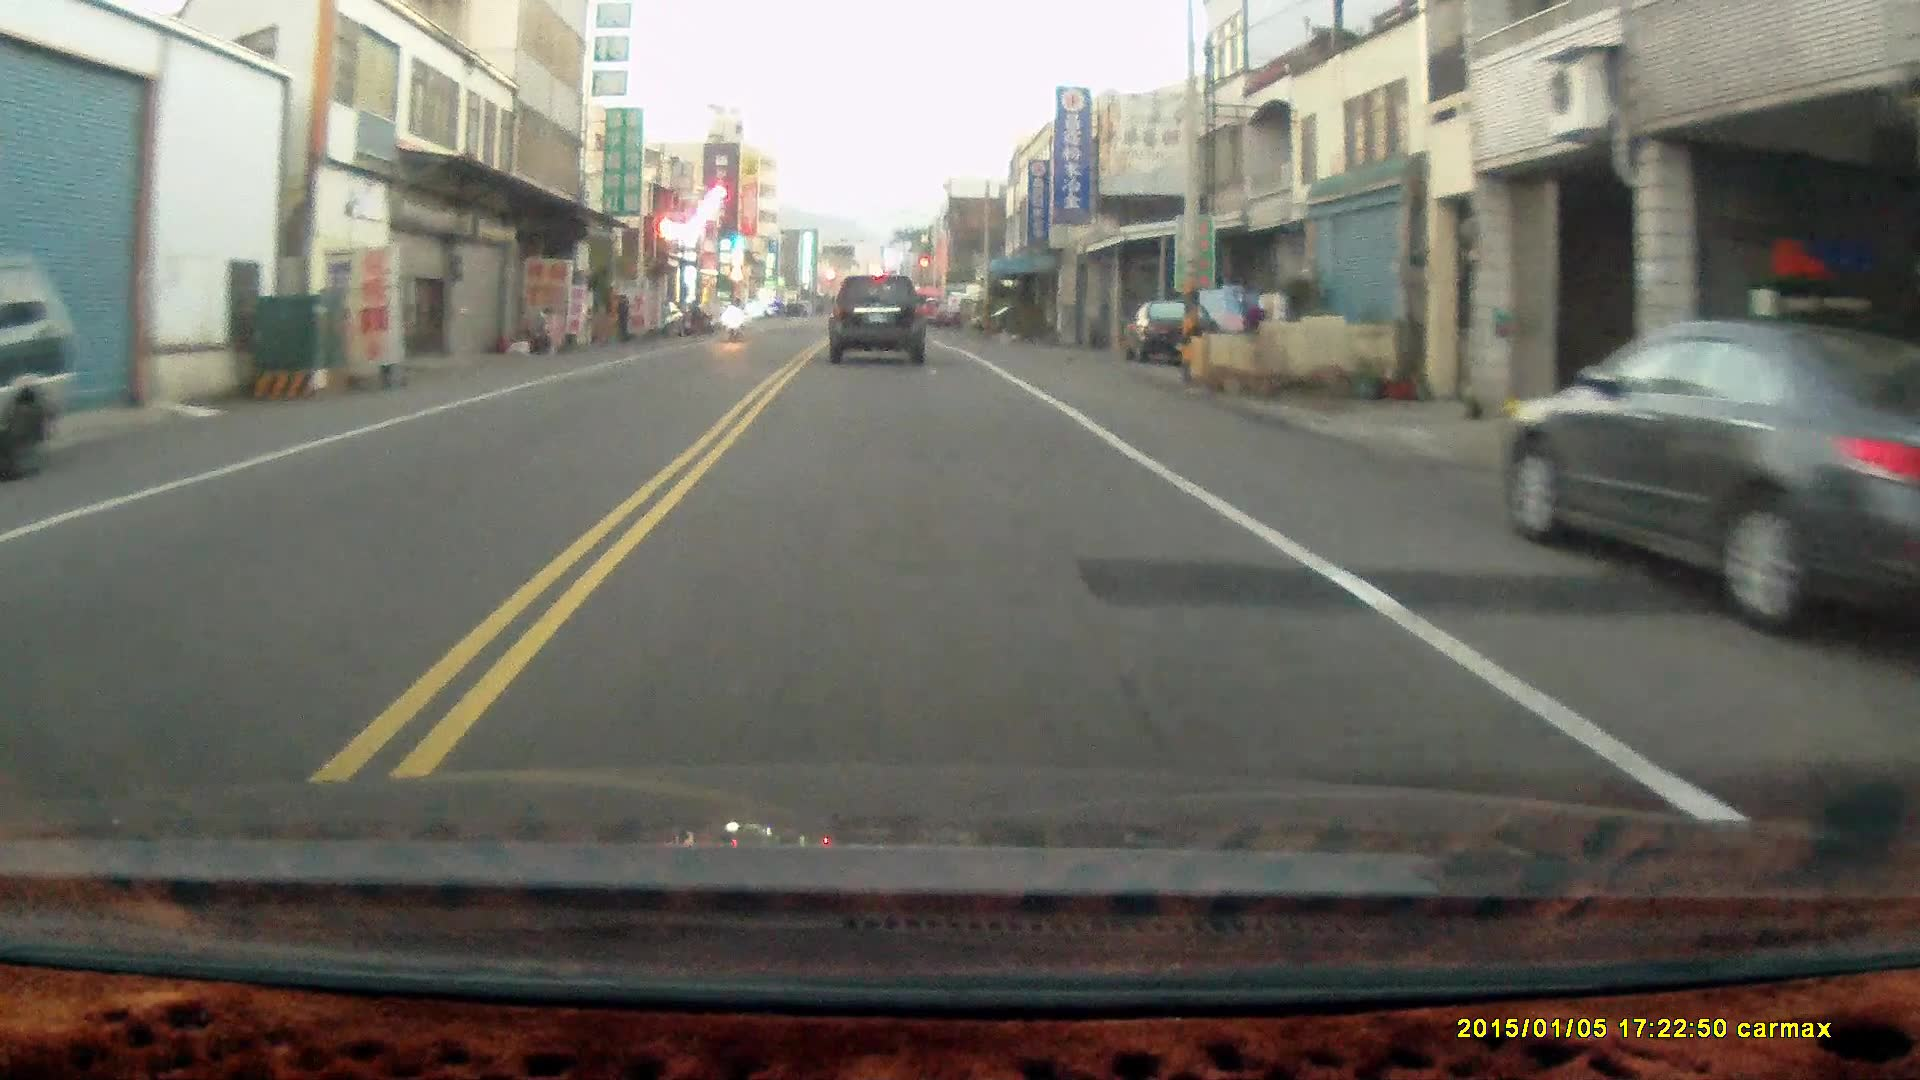pedestrian: (611, 292, 632, 344)
rider: (718, 289, 745, 339)
vehicle: (1499, 315, 1920, 655), (1, 250, 83, 483), (827, 276, 928, 370), (1124, 299, 1225, 368)
